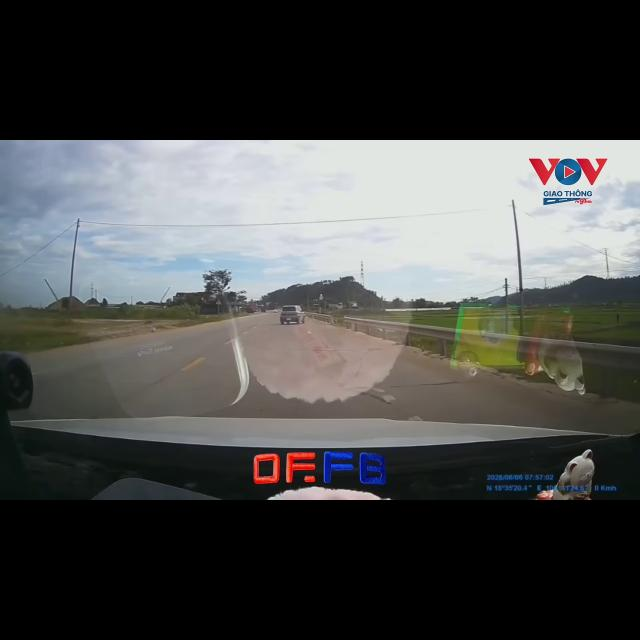car: (280, 306, 304, 324), (273, 309, 277, 312)
